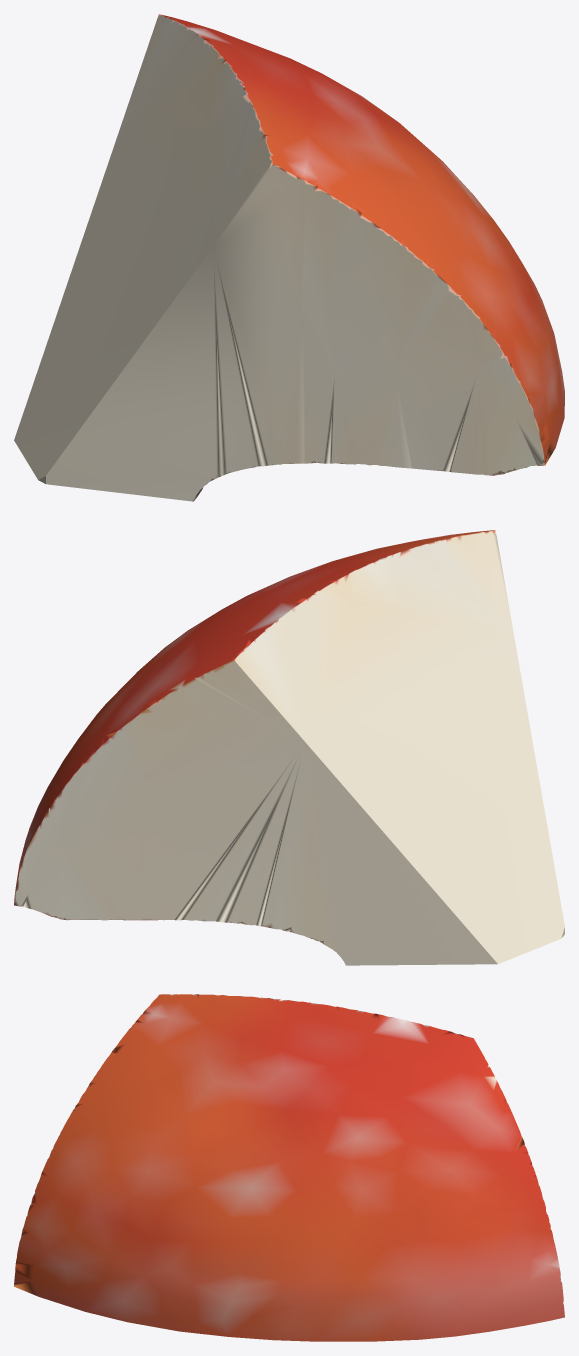
The model's file is amanita-scout-cap0.glb.
The picture shows the model from 3 angles, top to bottom: view 1: azimuth 30°, elevation 25°; view 2: azimuth 150°, elevation 25°; view 3: azimuth 270°, elevation 25°; orthographic projection. The views are drawn at different scales.
Visible parts, largest first — view 1: body; view 2: body; view 3: body.
Part boxes in pixels (x1=…): body: x1=14, y1=14, x2=564, y2=501; body: x1=14, y1=530, x2=564, y2=965; body: x1=14, y1=994, x2=564, y2=1341.
Size of the model in its own units: 0.6203 by 0.4468 by 0.7781.
